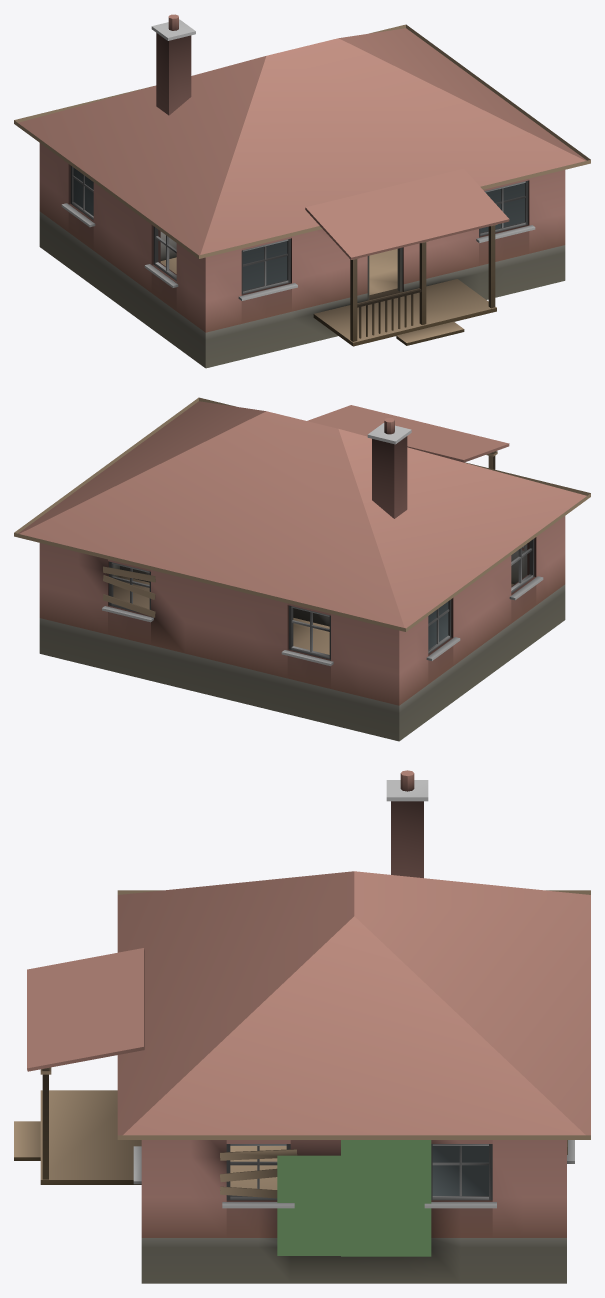
File: house_c.glb
The picture shows the model from 3 angles, top to bottom: view 1: azimuth 30°, elevation 25°; view 2: azimuth 150°, elevation 25°; view 3: azimuth 270°, elevation 25°; orthographic projection. The views are drawn at different scales.
Visible parts, largest first — view 1: house_c; view 2: house_c; view 3: house_c.
Part boxes in pixels (x1,y1,x2,y2): house_c: [14, 14, 590, 368]; house_c: [14, 397, 590, 741]; house_c: [14, 770, 590, 1283].
Bounding box in the file's own units: 10.9 × 6.86 × 10.85.
